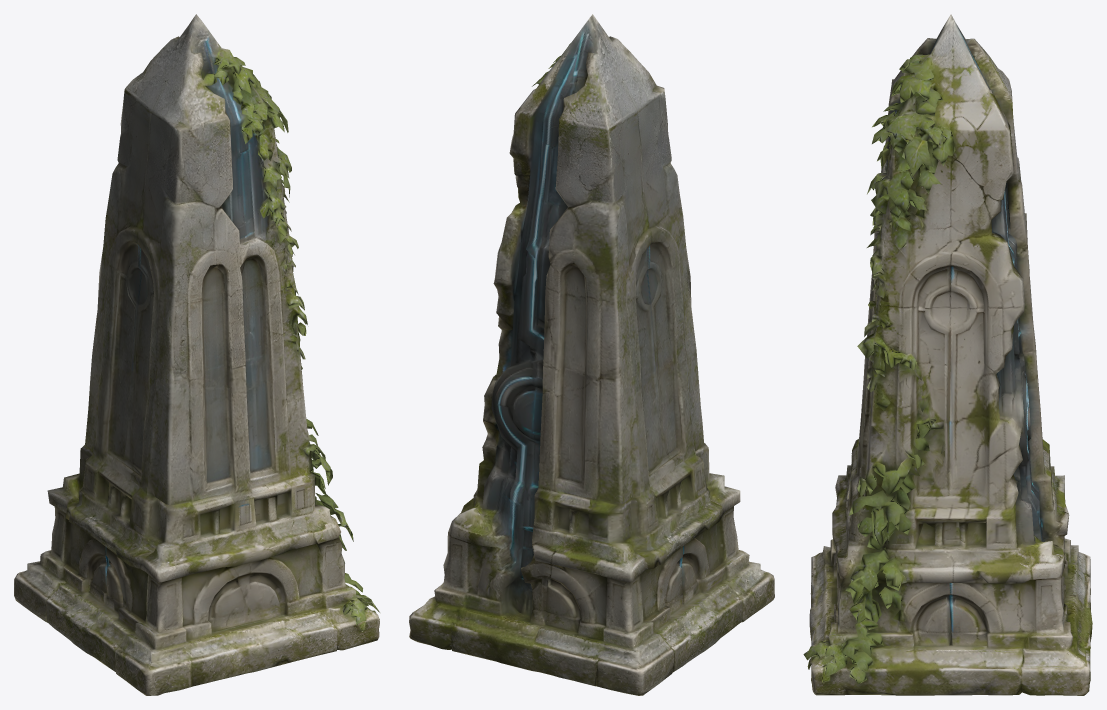
The model's file is env_obelisk.glb.
The picture shows the model from 3 angles, left to right: view 1: azimuth 30°, elevation 25°; view 2: azimuth 150°, elevation 25°; view 3: azimuth 270°, elevation 25°; orthographic projection. The views are drawn at different scales.
Parts seen in each view (by area): view 1: tripo_node_92afc6ac-576d-4107-8ff0-cbf490d8a4b2; view 2: tripo_node_92afc6ac-576d-4107-8ff0-cbf490d8a4b2; view 3: tripo_node_92afc6ac-576d-4107-8ff0-cbf490d8a4b2.
Boxes of the visible parts, x1=… form: tripo_node_92afc6ac-576d-4107-8ff0-cbf490d8a4b2: x1=14, y1=14, x2=379, y2=695; tripo_node_92afc6ac-576d-4107-8ff0-cbf490d8a4b2: x1=409, y1=14, x2=774, y2=695; tripo_node_92afc6ac-576d-4107-8ff0-cbf490d8a4b2: x1=803, y1=14, x2=1092, y2=695.
Size of the model in its own units: 0.424 by 1 by 0.4207.
1 material, 1 textured.
